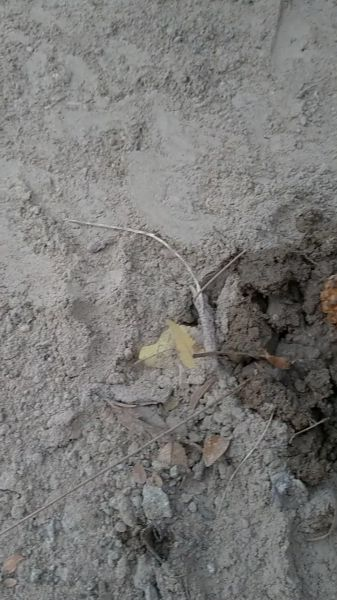eggs: (315, 269, 337, 332)
